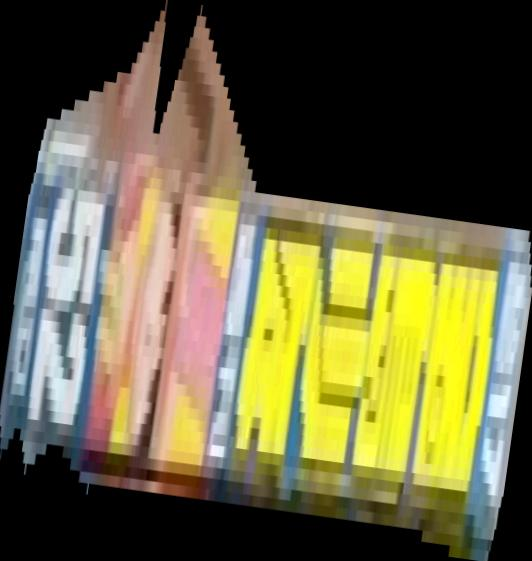flat: (1, 1, 532, 561)
